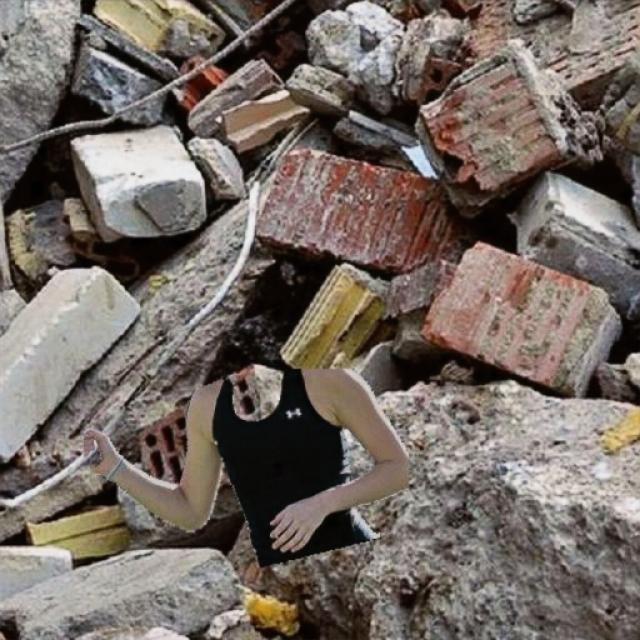Person in Rubble: (84, 368, 408, 566)
